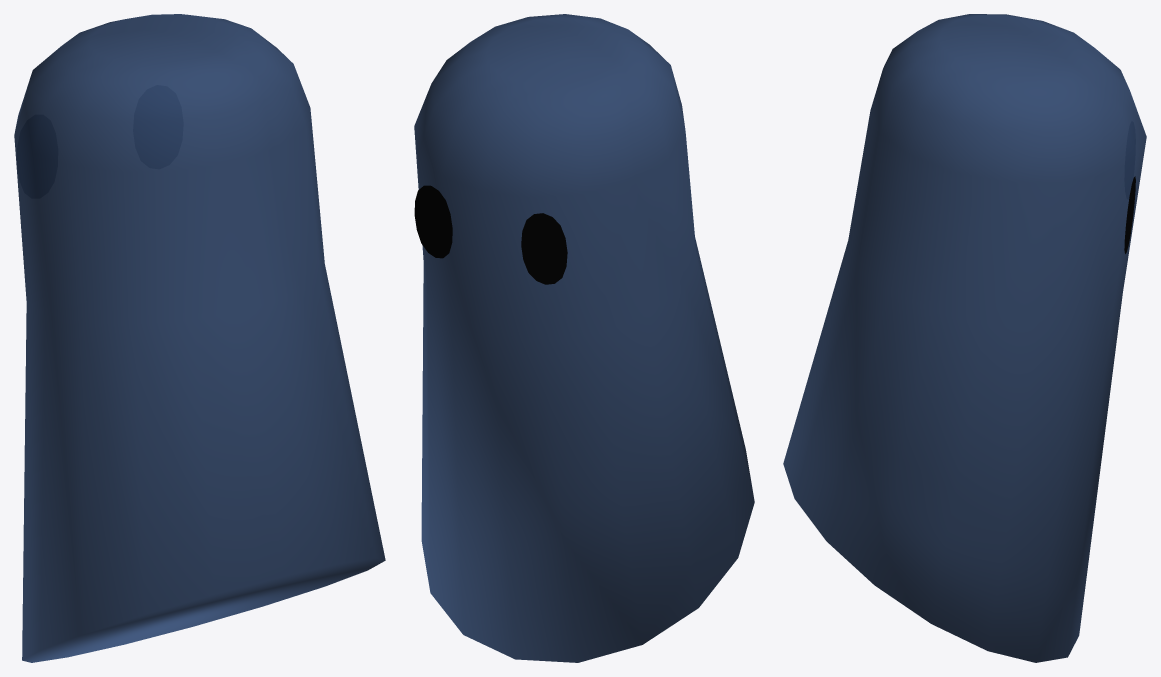
The model's file is Дефолт Призрак .fbx.
3 views of the same model, side by side, from view 1: azimuth 30°, elevation 25°; view 2: azimuth 150°, elevation 25°; view 3: azimuth 270°, elevation 25° (orthographic). The views are drawn at different scales.
Parts seen in each view (by area): view 1: Plane.002; view 2: Plane.002, Plane.006, Plane.001; view 3: Plane.002.
Boxes of the visible parts, left/top/right/bottom form: Plane.002: left=14, top=14, right=385, bottom=662; Plane.002: left=414, top=14, right=754, bottom=662; Plane.006: left=521, top=213, right=567, bottom=284; Plane.001: left=414, top=185, right=452, bottom=258; Plane.002: left=783, top=14, right=1146, bottom=662.
Bounding box in the file's own units: 60.78 × 114 × 62.86.
